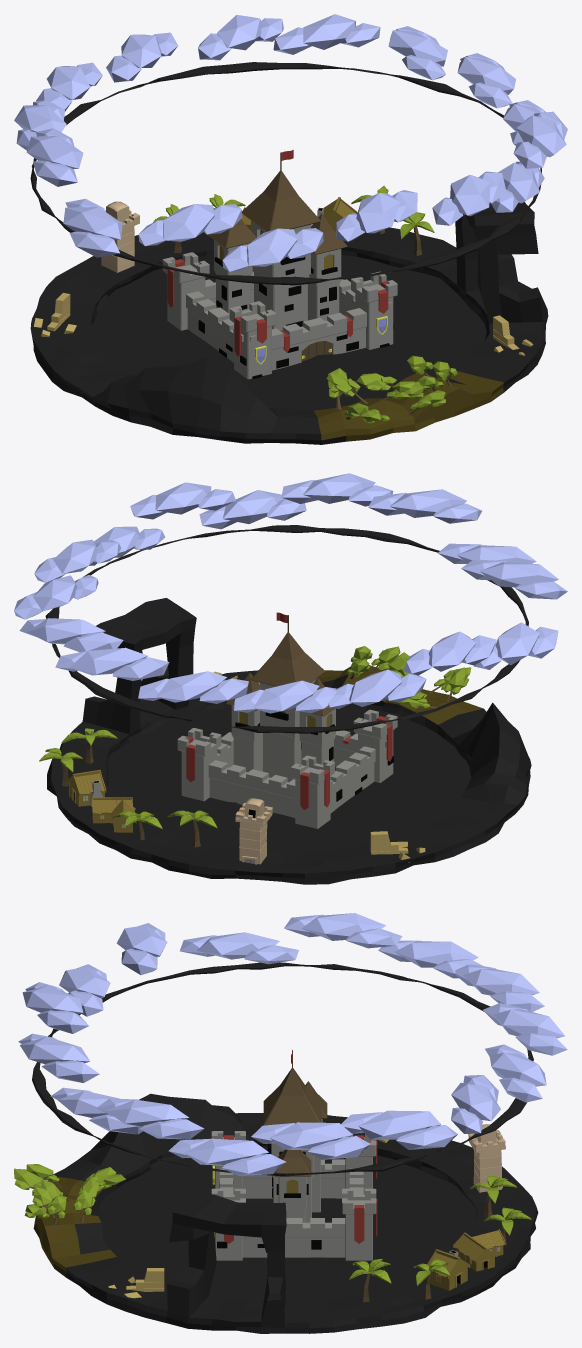
File: TESTE cenario.fbx
The picture shows the model from 3 angles, top to bottom: view 1: azimuth 30°, elevation 25°; view 2: azimuth 150°, elevation 25°; view 3: azimuth 270°, elevation 25°; orthographic projection. The views are drawn at different scales.
Parts seen in each view (by area): view 1: Cylinder, Castelo, Cube.025, Cube.026, Cube.018, Cube.027, Cube.024, Cube.029, Cube.023, Cube.019, Cube.014, Cube.020 (+11 smaller); view 2: Cylinder, Castelo, Cube.019, Cube.027, Cube.020, Cube.025, Cube.021, Cube.029, Cube.028, Cube.022, Cube.023, Cube.014 (+14 smaller); view 3: Cylinder, Castelo, Cube.017, Cube.016, Cube.015, Cube.023, Cube.014, Cube.024, Cube.020, Cube.021, Cube.029, Cube.019 (+14 smaller).
Part boxes in pixels (<box>): Cylinder: <box>30,62,548,444</box>; Castelo: <box>162,149,397,379</box>; Cube.025: <box>138,204,242,246</box>; Cube.026: <box>222,228,323,271</box>; Cube.018: <box>273,14,380,54</box>; Cube.027: <box>336,190,417,241</box>; Cube.024: <box>63,198,122,257</box>; Cube.029: <box>432,171,506,225</box>; Cube.023: <box>26,128,83,186</box>; Cube.019: <box>198,15,283,60</box>; Cube.014: <box>513,111,567,168</box>; Cube.020: <box>106,32,178,82</box>; Cylinder: <box>45,525,531,884</box>; Castelo: <box>177,612,397,828</box>; Cube.019: <box>55,647,169,680</box>; Cube.027: <box>368,489,481,523</box>; Cube.020: <box>138,671,248,703</box>; Cube.025: <box>461,559,567,599</box>; Cube.021: <box>233,680,336,713</box>; Cube.029: <box>281,473,393,506</box>; Cube.028: <box>199,490,306,529</box>; Cube.022: <box>328,669,426,708</box>; Cube.023: <box>403,631,496,675</box>; Cube.014: <box>130,482,235,519</box>; Cylinder: <box>32,962,538,1333</box>; Castelo: <box>211,1050,377,1260</box>; Cube.017: <box>341,1110,457,1149</box>; Cube.016: <box>251,1122,370,1159</box>; Cube.015: <box>168,1138,285,1175</box>; Cube.023: <box>284,913,402,948</box>; Cube.014: <box>96,1098,204,1139</box>; Cube.024: <box>180,932,298,964</box>; Cube.020: <box>483,1003,567,1055</box>; Cube.021: <box>455,964,544,1011</box>; Cube.029: <box>18,1033,99,1082</box>; Cube.019: <box>485,1044,546,1102</box>.
Size of the model in its own units: 3129 by 1528 by 3138.
